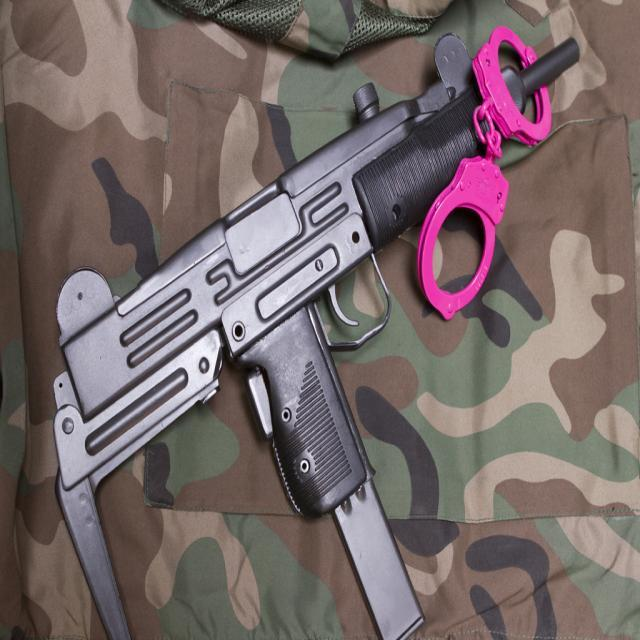Gun: (54, 35, 481, 640), (499, 41, 579, 110)
